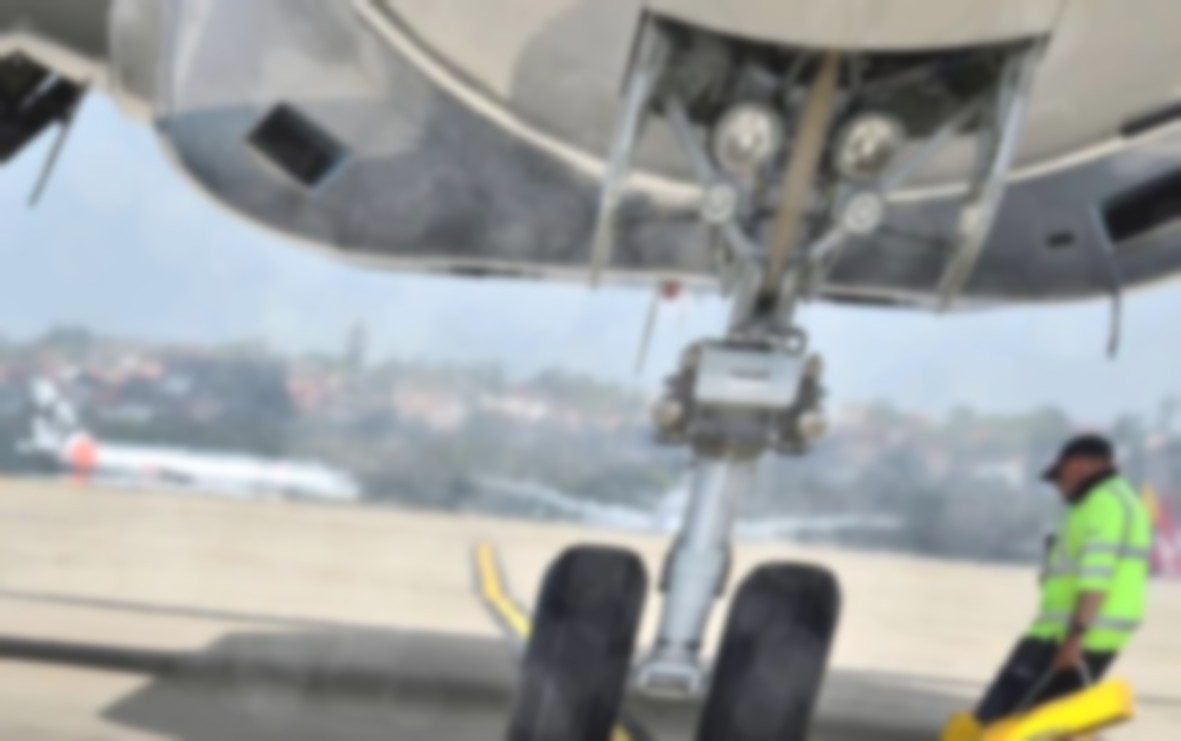chock: (963, 663, 1156, 741), (934, 705, 1101, 741)
wheel: (486, 536, 661, 741), (674, 554, 860, 741)
